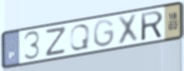3: (22, 30, 41, 62)
G: (92, 18, 116, 49)
Q: (68, 23, 92, 52)
R: (139, 9, 165, 42)
X: (116, 11, 140, 47)
Z: (44, 25, 68, 59)
